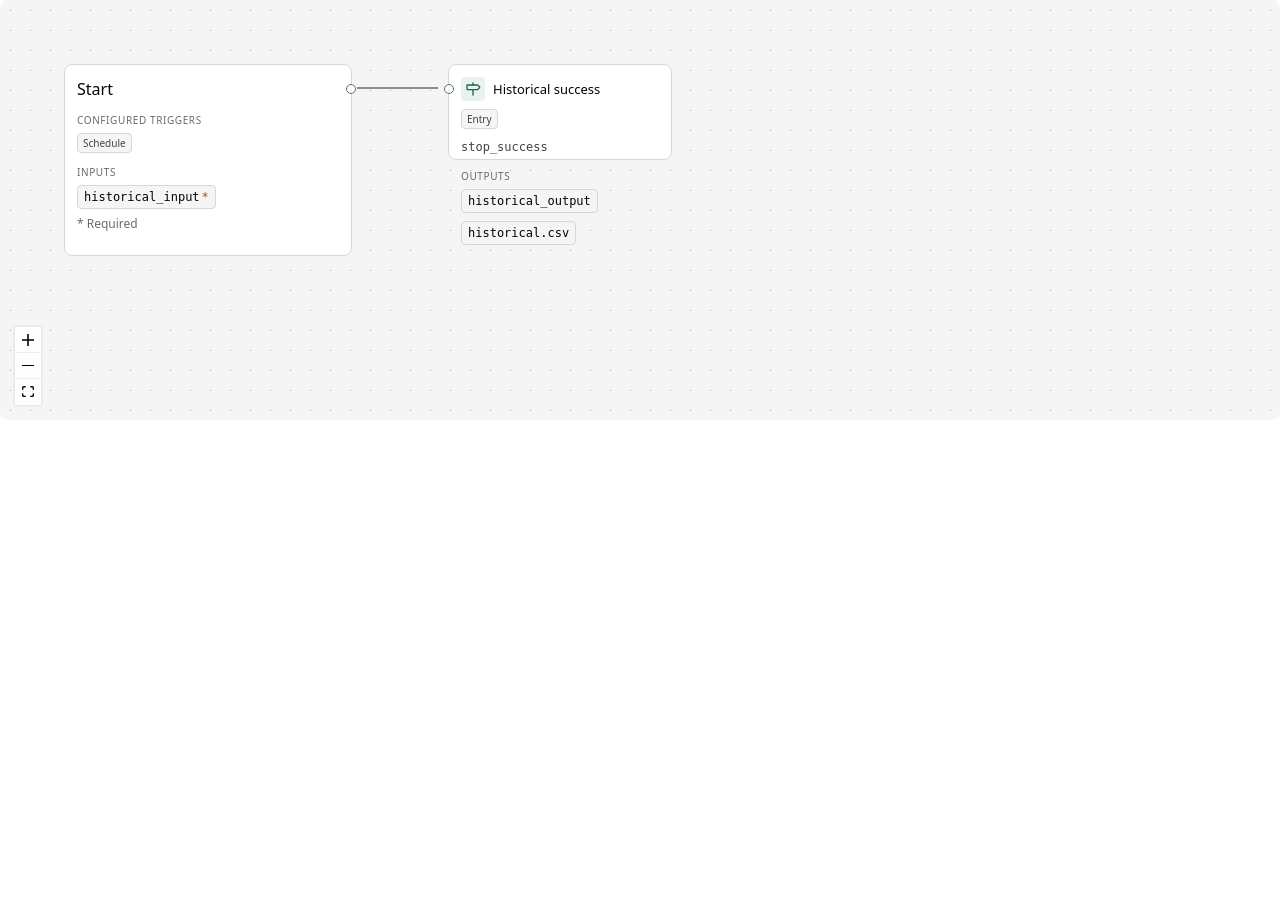
Test: opens the pinned Outputs contract from Success Stop without opening a live editor
Click the text "Historical success" at {"x": 547, "y": 89}, box 493,79 -> 600,99
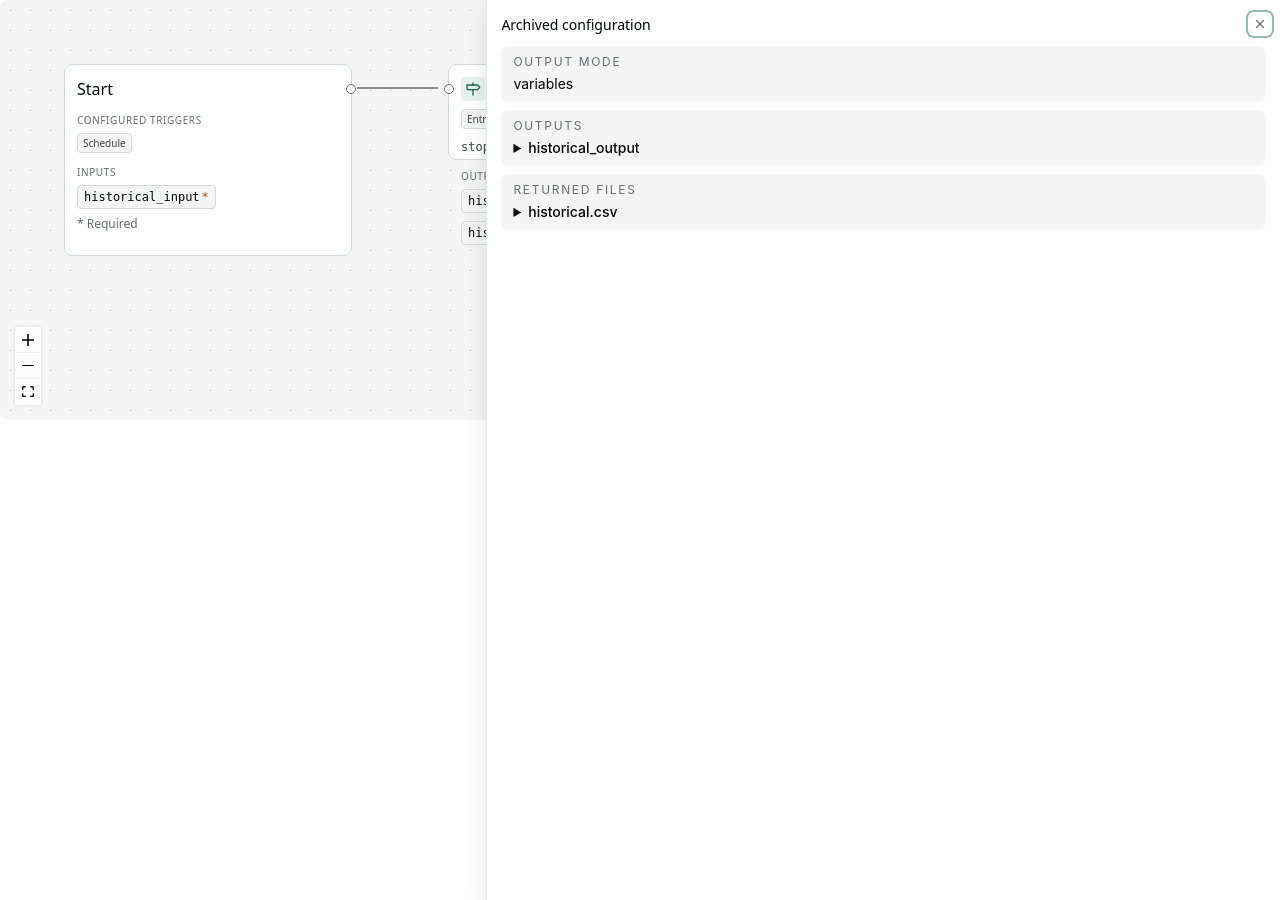
Check: the dialog "Archived configuration" shows "historical_output", box 528,139 -> 640,156
Check: the dialog "Archived configuration" shows "historical.csv", box 528,203 -> 617,220
Check: the dialog "Archived configuration" shows "Returned Files", box 513,182 -> 637,197
